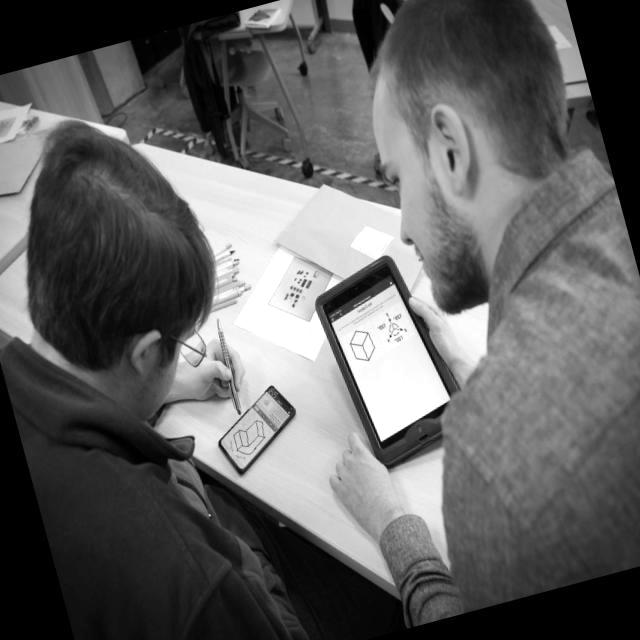phone: (306, 244, 475, 476), (206, 379, 308, 478)
